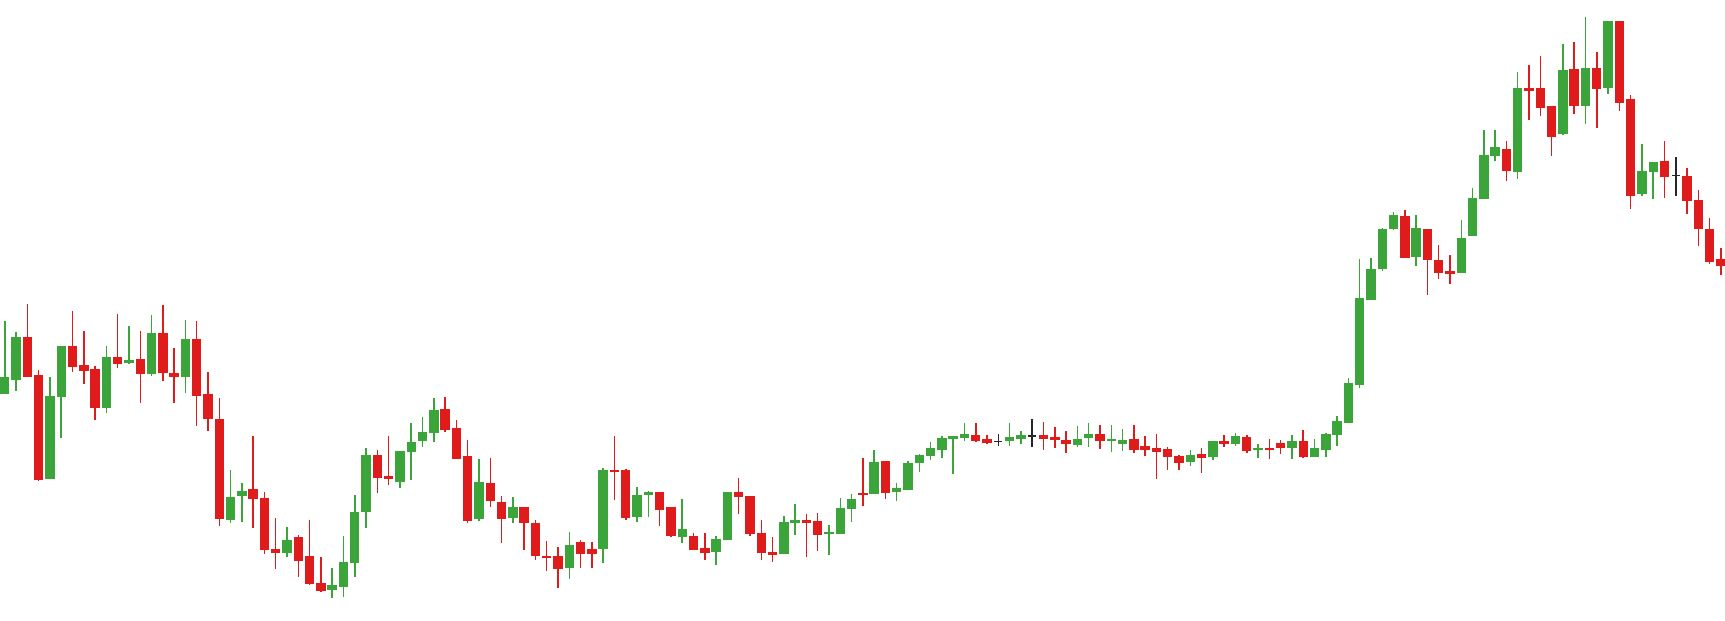sell: (112, 306, 171, 385)
